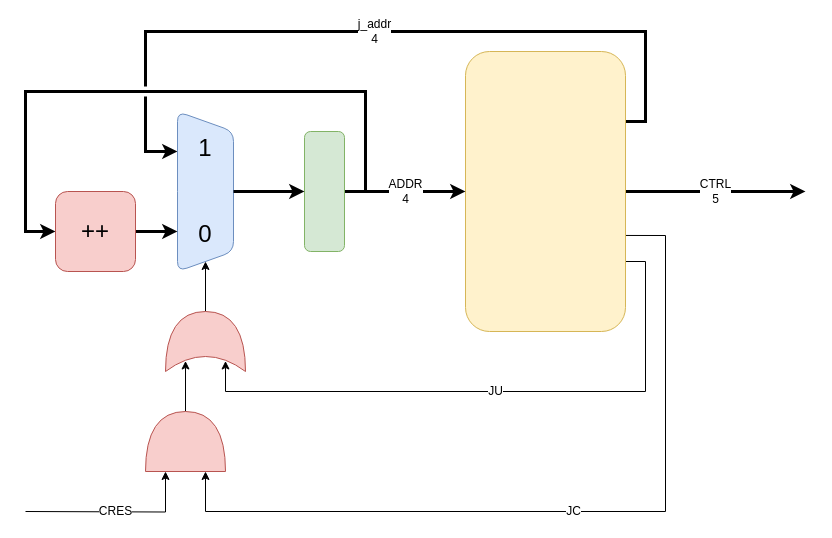
This 832x538 diagram has some shape labels left out. Each missing label, with the centre of its shape:
"ADDR" goes at point 324,191.
"ROM 16 X 11b" goes at point 545,191.
